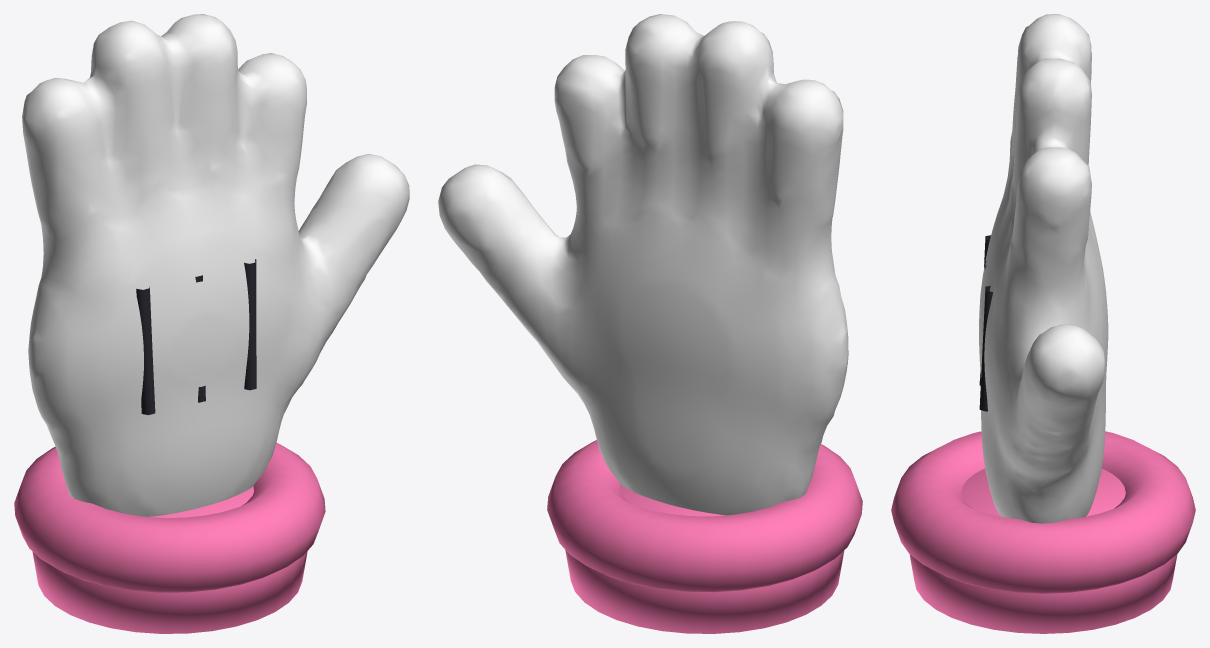
The model's file is SlaparazziGlove.obj.
3 views of the same model, side by side, from view 1: azimuth 30°, elevation 25°; view 2: azimuth 150°, elevation 25°; view 3: azimuth 270°, elevation 25° (orthographic). The views are drawn at different scales.
Parts seen in each view (by area): view 1: Glove, Cuff, Stitch; view 2: Glove, Cuff; view 3: Glove, Cuff, Stitch.
Boxes of the visible parts, x1,y1,x2,y2 form: Glove: (22,14,409,516); Cuff: (14,442,325,633); Stitch: (136,259,256,414); Glove: (438,14,848,515); Cuff: (547,440,862,633); Glove: (979,14,1108,523); Cuff: (891,431,1195,633); Stitch: (979,235,992,411).
Bounding box in the file's own units: 2.27 × 3.16 × 1.6.
